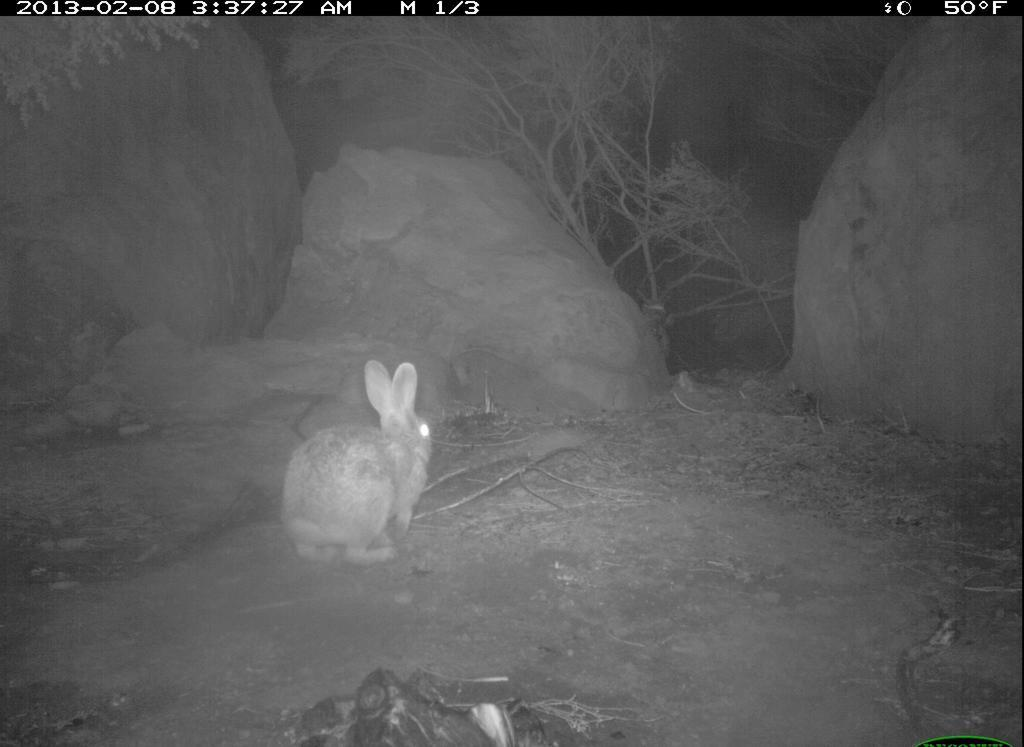rabbit: (271, 356, 469, 574)
